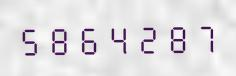eight: (46, 21, 74, 56), (162, 19, 190, 54)
five: (17, 21, 45, 57)
four: (104, 20, 132, 55)
seven: (191, 18, 219, 54)
six: (75, 20, 103, 56)
two: (133, 19, 161, 55)
